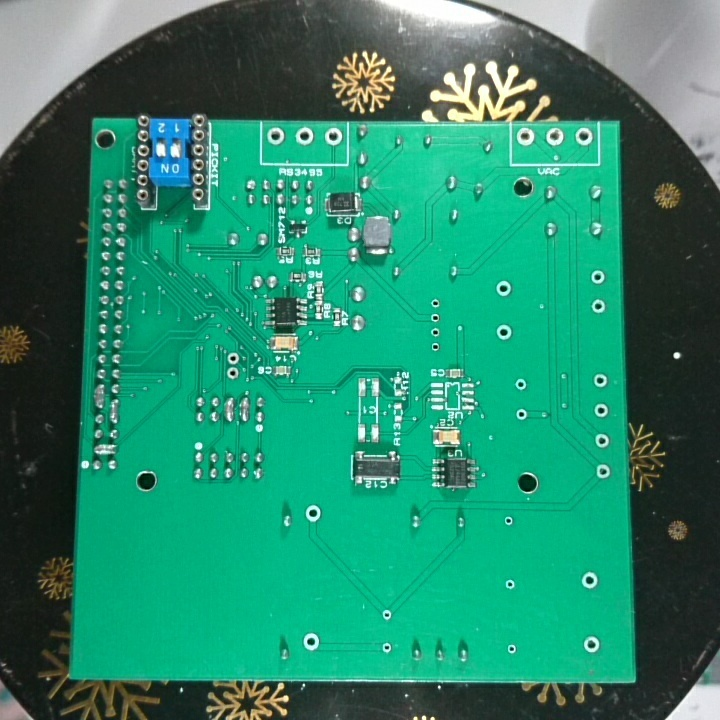F: (300, 629, 325, 654), (322, 126, 345, 149), (515, 125, 537, 147), (573, 126, 594, 149), (579, 569, 602, 590), (265, 126, 286, 148), (543, 125, 564, 147), (293, 126, 316, 146), (588, 266, 608, 288), (590, 295, 610, 317), (582, 633, 602, 655), (303, 503, 323, 525), (591, 371, 611, 392), (592, 431, 612, 452), (494, 278, 514, 299), (592, 401, 611, 421), (495, 322, 514, 342), (594, 462, 613, 481), (513, 375, 529, 393), (514, 406, 530, 423), (224, 365, 241, 381), (224, 350, 242, 365), (502, 576, 518, 592), (428, 323, 443, 340), (379, 606, 394, 623), (428, 310, 443, 326), (379, 640, 394, 656), (503, 641, 520, 655), (502, 513, 516, 529), (428, 296, 443, 310), (428, 340, 442, 355)
P: (90, 442, 120, 458), (237, 395, 251, 427), (91, 381, 106, 410), (222, 395, 236, 426), (107, 397, 121, 426)
